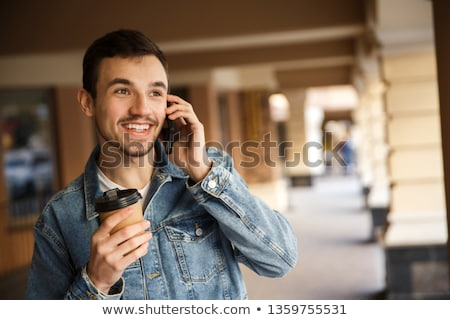phone: (159, 93, 200, 156)
talk: (102, 77, 211, 175)
